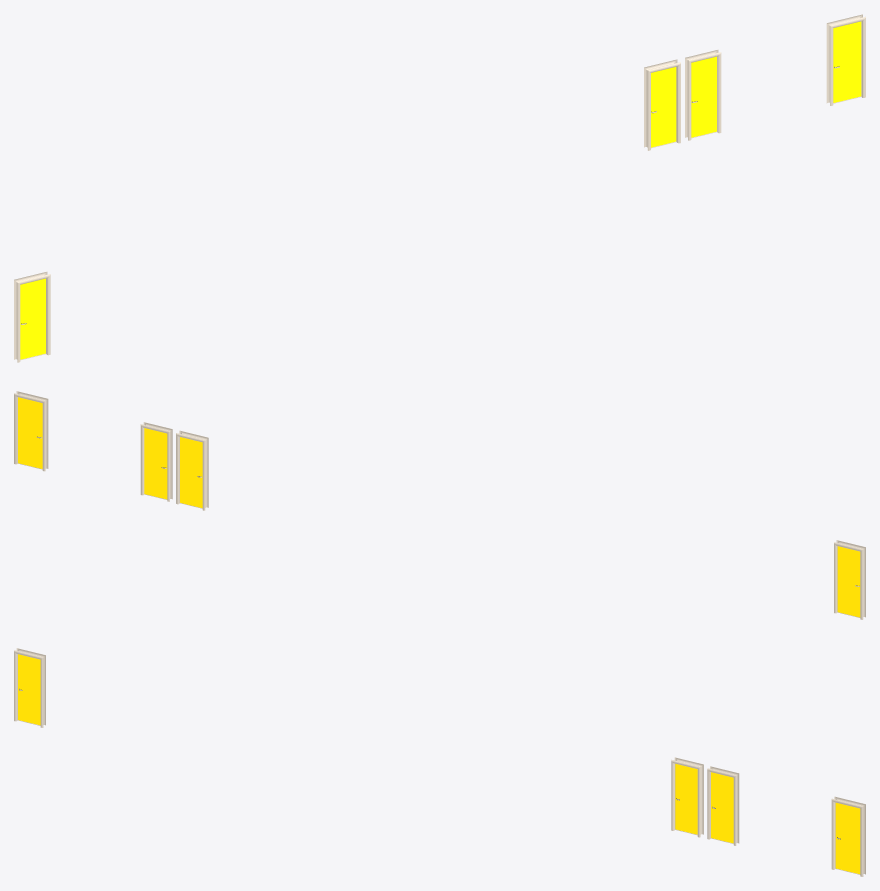
File: doorswc.dae
The picture shows the model from 3 angles, top to bottom: view 1: azimuth 30°, elevation 25°; view 2: azimuth 150°, elevation 25°; view 3: azimuth 330°, elevation 25°; orthographic projection. The views are drawn at different scales.
Visible parts, largest first — view 1: DoorsWC; view 2: DoorsWC; view 3: DoorsWC.
Boxes of the visible parts, x1=… form: DoorsWC: x1=14, y1=14, x2=865, y2=362; DoorsWC: x1=14, y1=391, x2=865, y2=619; DoorsWC: x1=14, y1=648, x2=865, y2=876.
Size of the model in its own units: 29.23 by 3.57 by 2.47.
